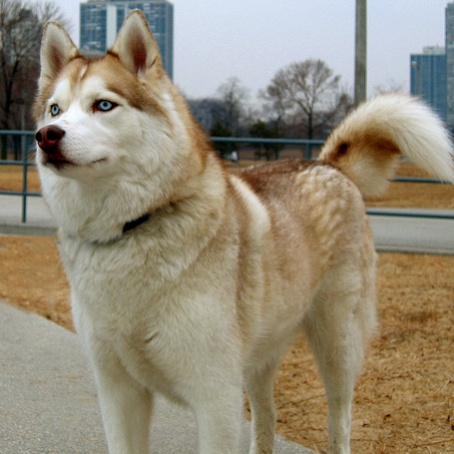animal: (35, 24, 383, 454)
building: (71, 4, 176, 92), (402, 38, 454, 126)
tree: (263, 57, 354, 145), (204, 79, 259, 148)
